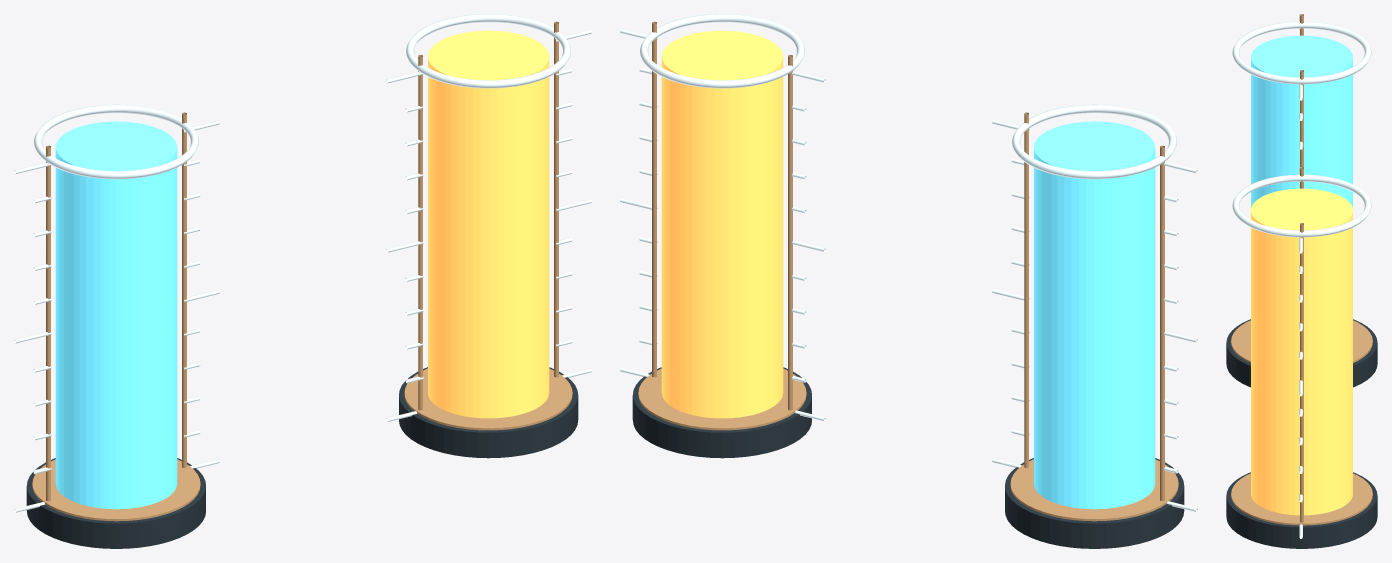
The model's file is air.glb.
The picture shows the model from 3 angles, left to right: view 1: azimuth 30°, elevation 25°; view 2: azimuth 150°, elevation 25°; view 3: azimuth 270°, elevation 25°; orthographic projection. The views are drawn at different scales.
Visible parts, largest first — view 1: Reference, Measure, Bronze escovado, Anodização grafite, Escala gravada; view 2: Measure, Reference, Bronze escovado, Anodização grafite, Escala gravada; view 3: Measure, Reference, Anodização grafite, Escala gravada, Bronze escovado.
Boxes of the visible parts, <box> form: Reference: <box>55,121,177,509</box>; Measure: <box>428,30,549,418</box>; Bronze escovado: <box>32,21,572,521</box>; Anodização grafite: <box>26,367,578,548</box>; Escala gravada: <box>14,14,591,512</box>; Measure: <box>661,30,783,418</box>; Reference: <box>1034,121,1155,509</box>; Bronze escovado: <box>638,21,1178,521</box>; Anodização grafite: <box>632,367,1184,548</box>; Escala gravada: <box>620,14,1197,511</box>; Measure: <box>1251,188,1352,515</box>; Reference: <box>1251,35,1352,207</box>; Anodização grafite: <box>1226,319,1377,548</box>; Escala gravada: <box>1232,14,1371,538</box>; Bronze escovado: <box>1231,14,1372,525</box>.
Bounding box in the file's own units: 3.56 × 2.25 × 0.96.
